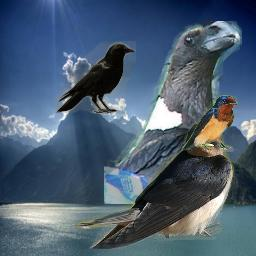Crow: (104, 21, 242, 204), (54, 41, 136, 116)
Swallow: (74, 121, 234, 249), (181, 95, 238, 152)
